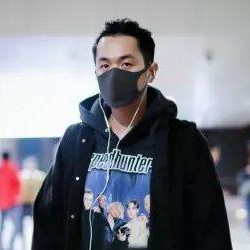mask: (93, 56, 148, 109)
